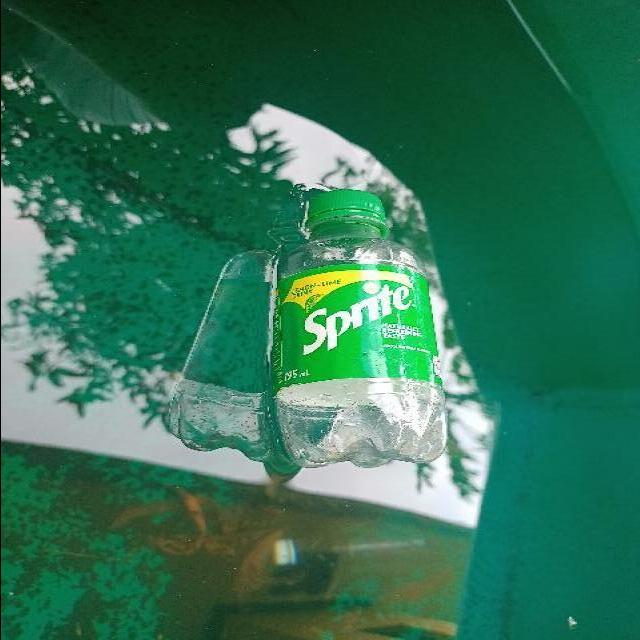Bottle: (258, 192, 452, 473)
